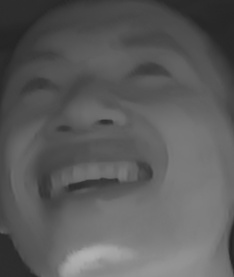eye: (124, 54, 172, 88), (15, 68, 60, 102)
mouth: (32, 139, 156, 213)
